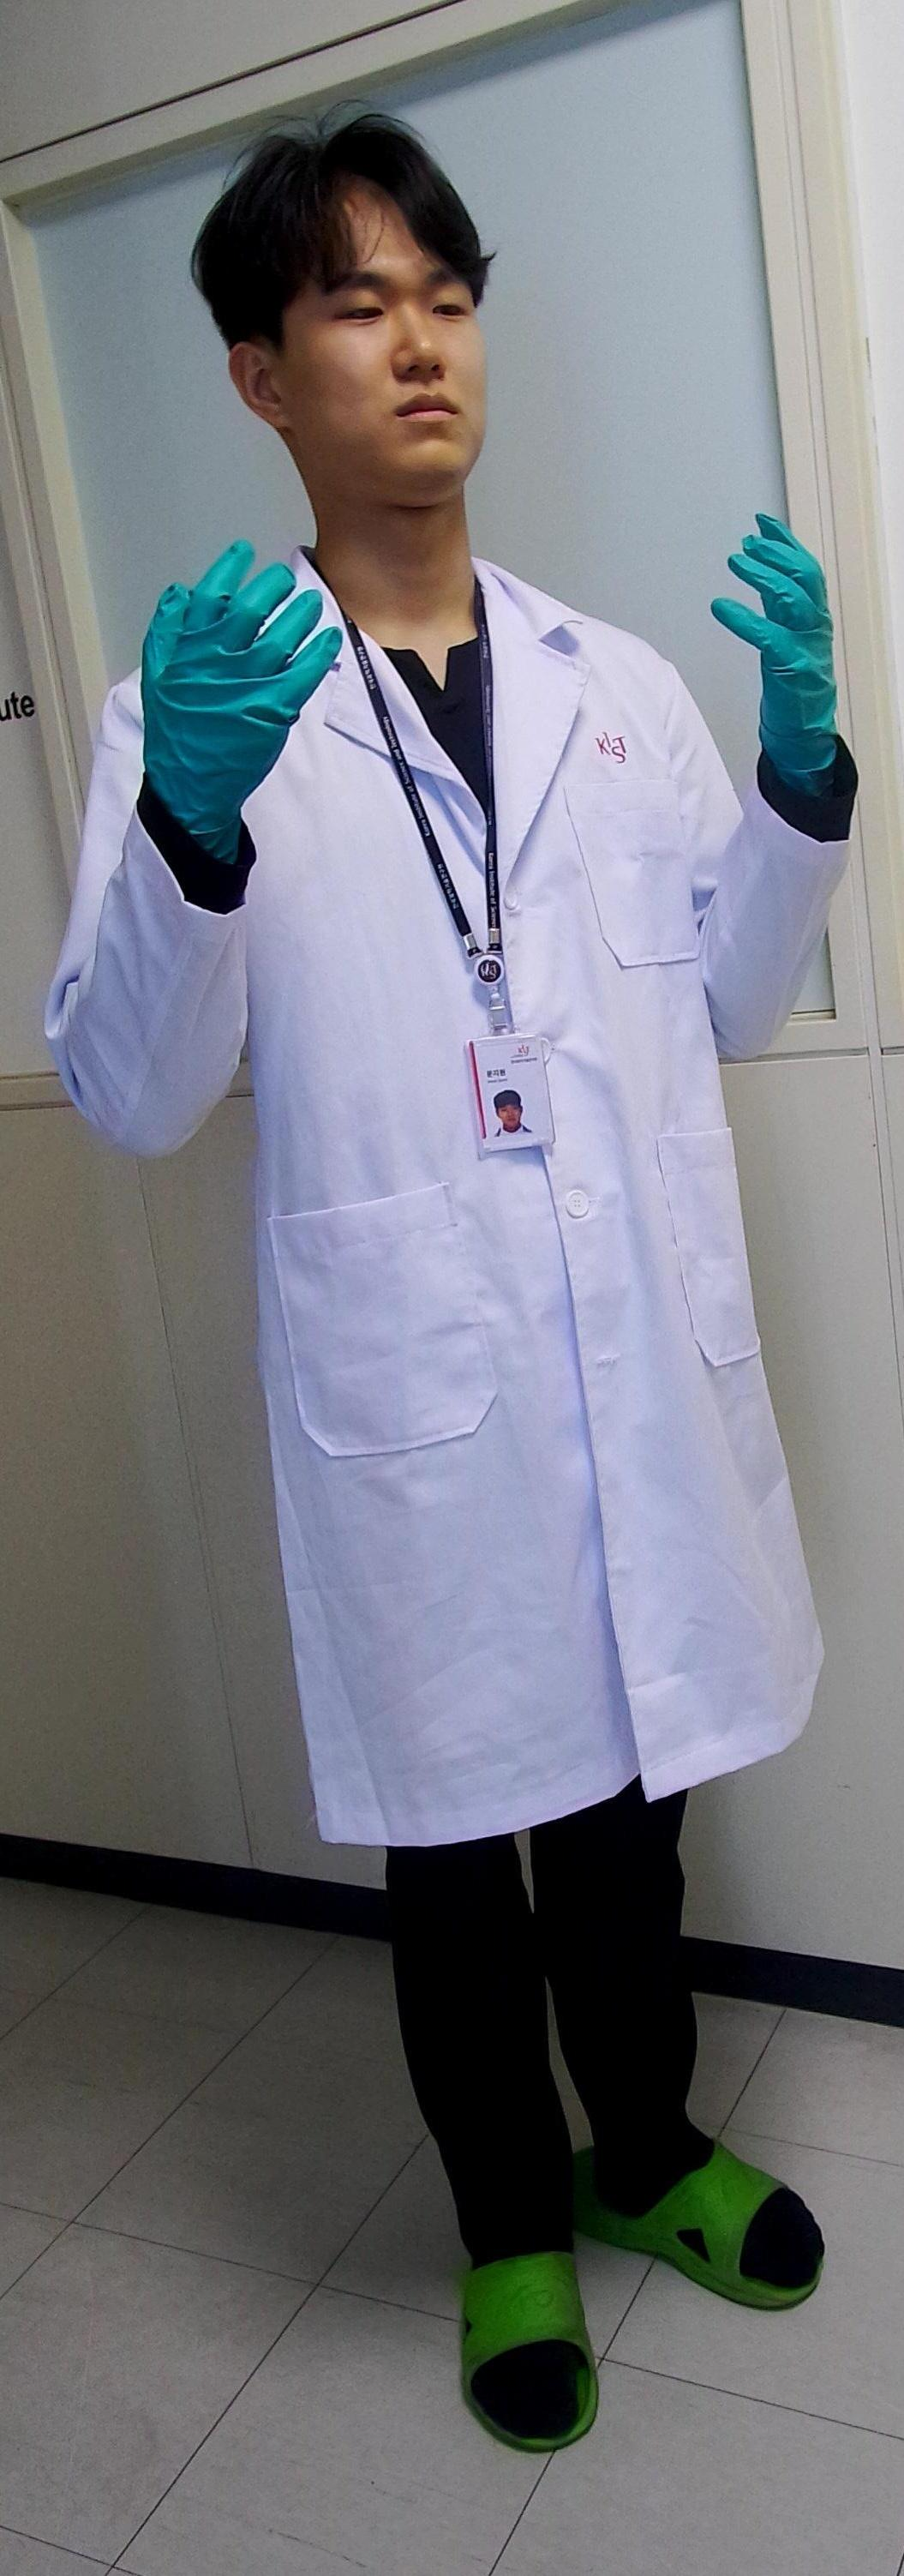lab_coat: (44, 547, 856, 1847)
